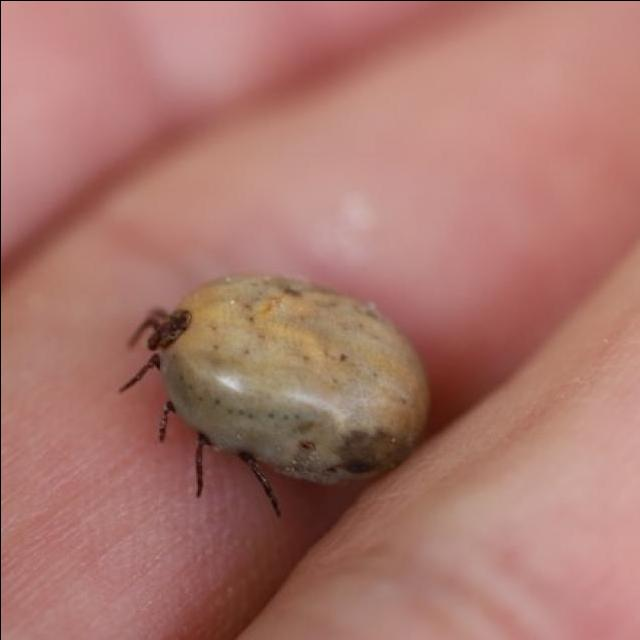Dermacentor Reticulatus-F-Fed: (114, 273, 432, 517)
